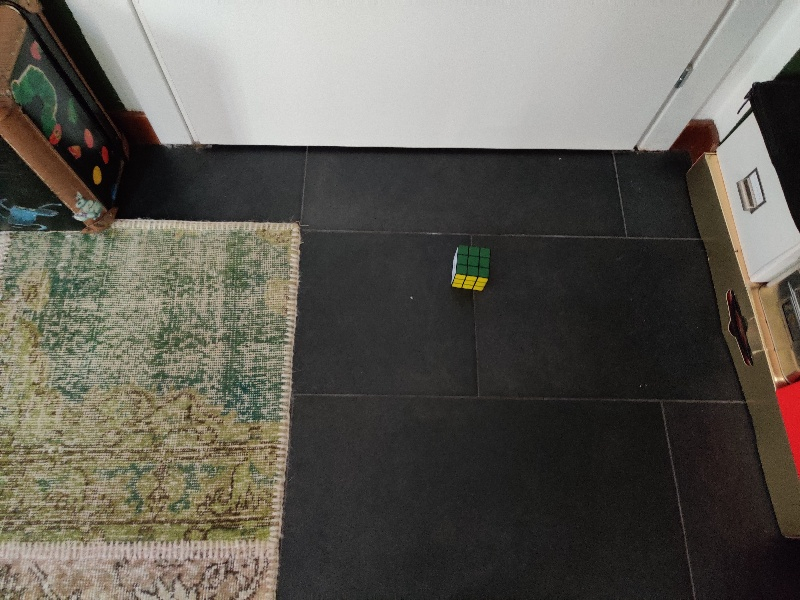rubik: (451, 245, 491, 293)
